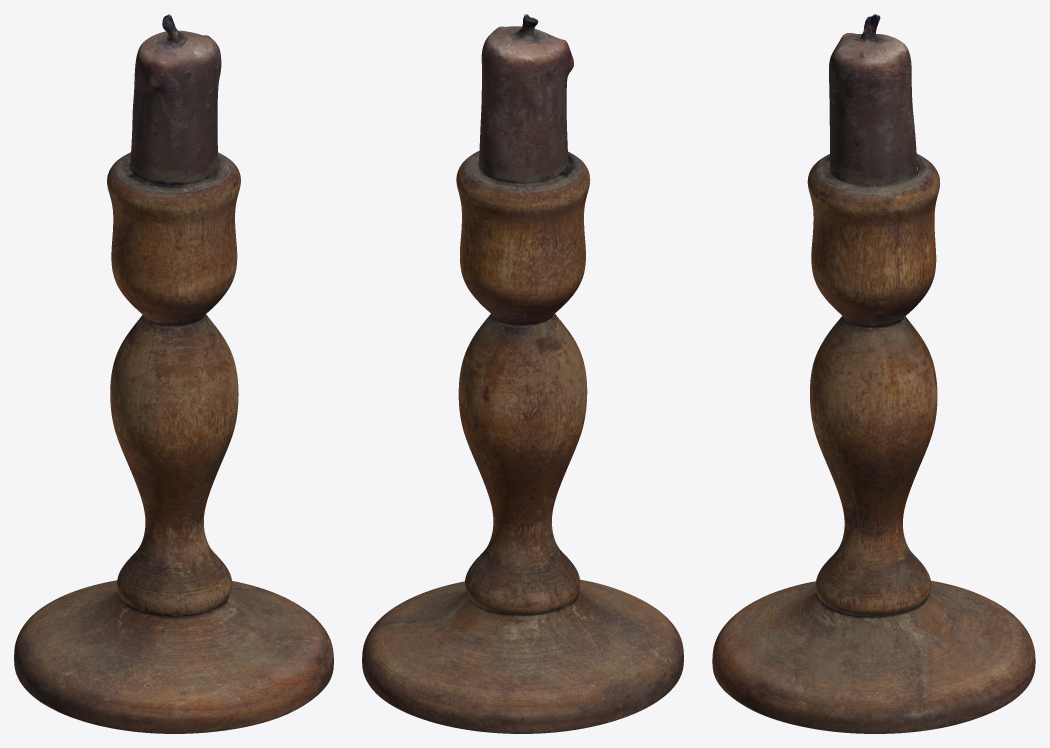
Rendered from wooden_candlestick.glb.
3 renders of one model, left to right at view 1: azimuth 30°, elevation 25°; view 2: azimuth 150°, elevation 25°; view 3: azimuth 270°, elevation 25°, orthographic.
Visible parts, largest first — view 1: wooden_candlestick; view 2: wooden_candlestick; view 3: wooden_candlestick.
Boxes of the visible parts, x1=… form: wooden_candlestick: x1=14, y1=14, x2=333, y2=733; wooden_candlestick: x1=362, y1=14, x2=683, y2=733; wooden_candlestick: x1=712, y1=14, x2=1035, y2=733.
Size of the model in its own units: 0.0972 by 0.2197 by 0.0987.
Materials: 1 (1 with a texture image).
